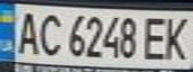2: (81, 11, 106, 60)
4: (103, 12, 124, 60)
6: (63, 11, 87, 58)
8: (118, 12, 142, 61)
A: (12, 8, 42, 55)
C: (36, 9, 66, 56)
E: (139, 12, 172, 61)
K: (160, 12, 193, 62)
